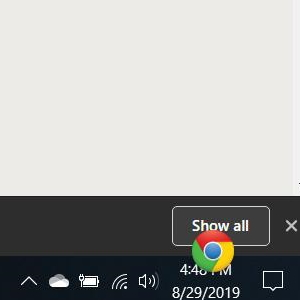chrome: (191, 230, 234, 272)
